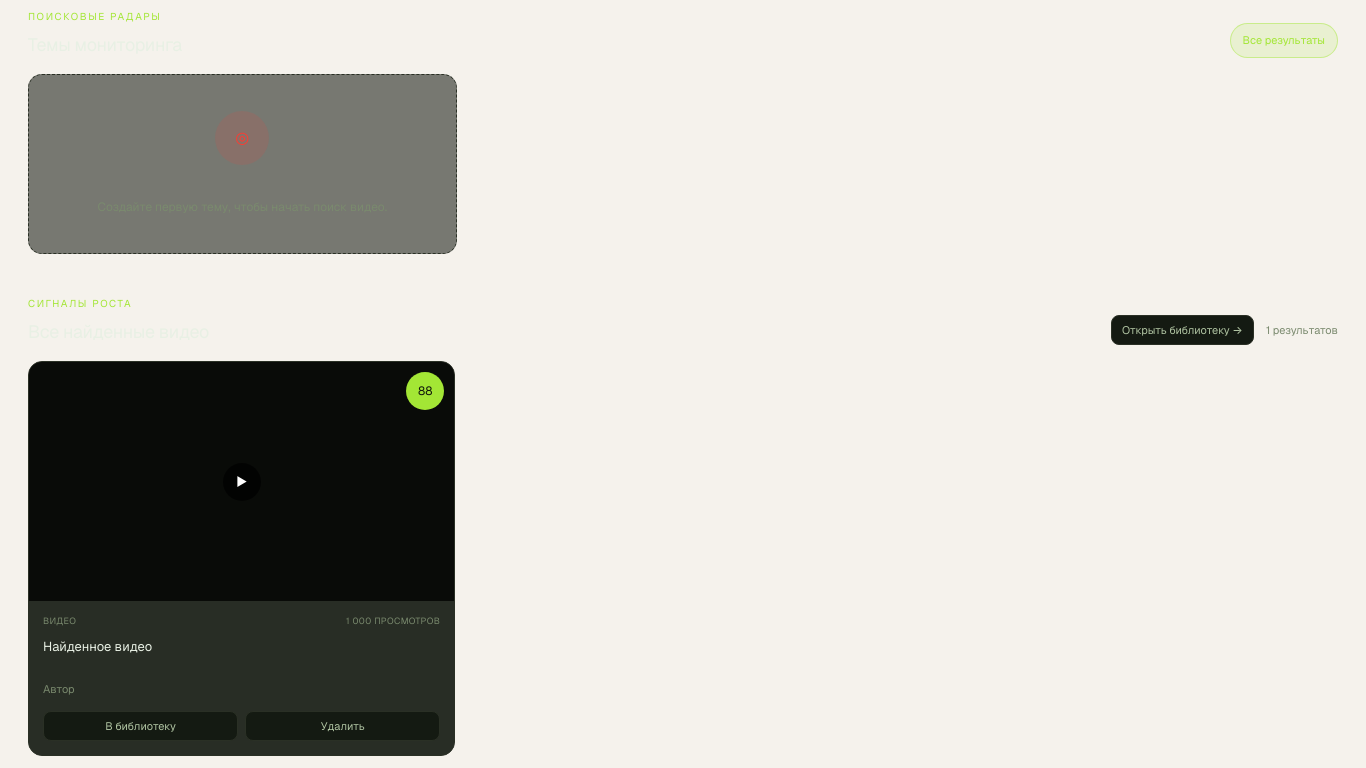
YouTubeMonitoringPage › moves a found video to the library and removes it from results
(page scrolled)
Expected: the heading "Найденное видео" is shown, [43,638,152,655]
Click the button "В библиотеку" at (141, 726), box [43,711,238,741]
(page scrolled)
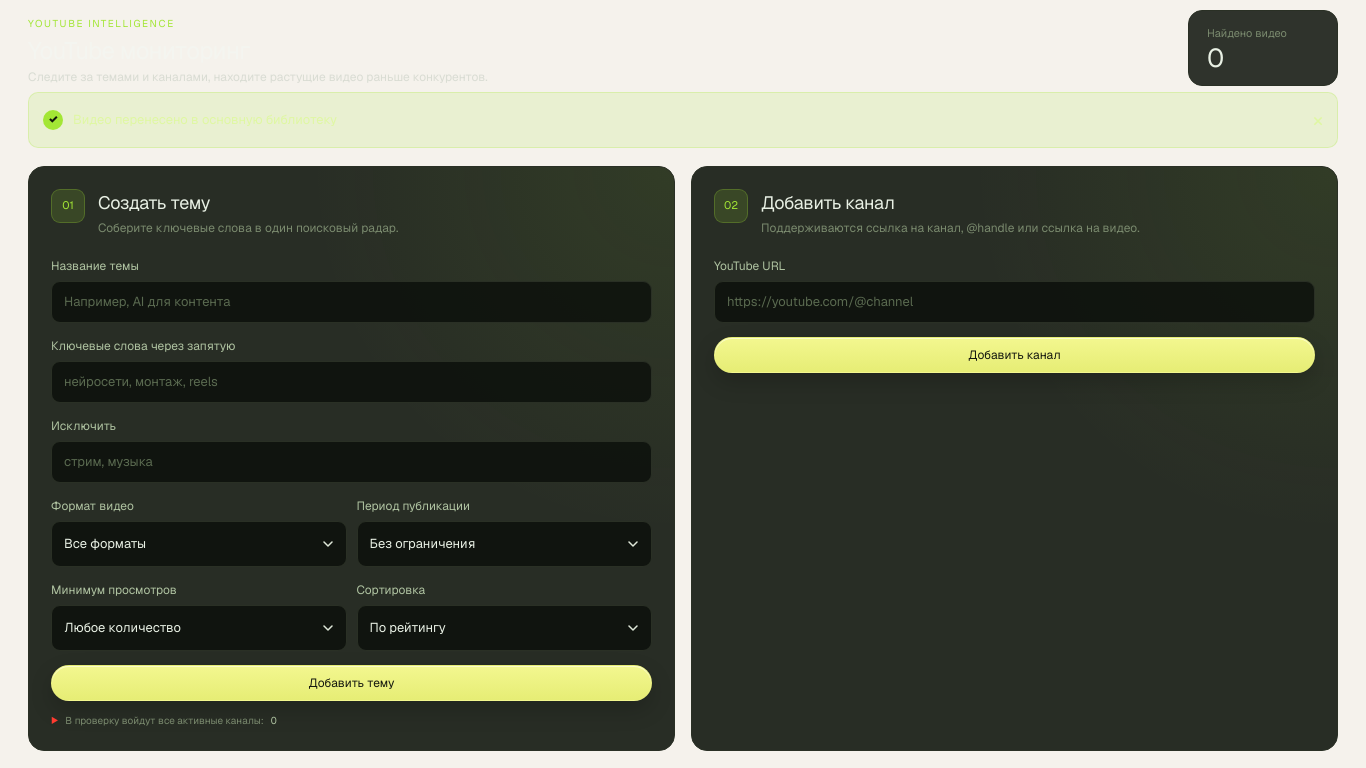
Result: the link "Найденное видео" is gone
Result: the text "Видео перенесено в основную библиотеку" is shown at [73,111,337,128]
